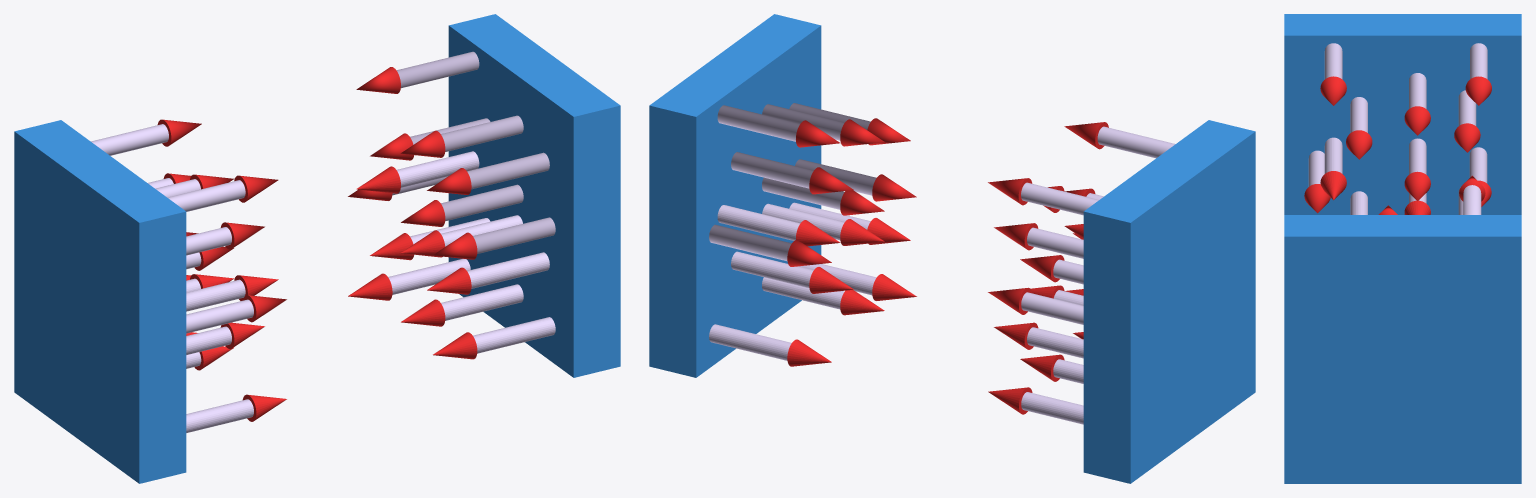
Rendered from obstacle7.fbx.
3 renders of one model, left to right at view 1: azimuth 30°, elevation 25°; view 2: azimuth 150°, elevation 25°; view 3: azimuth 270°, elevation 25°, orthographic. The views are drawn at different scales.
Visible parts, largest first — view 1: Cube.004, Cube.001, Cube.002, Cube.003; view 2: Cube.004, Cube.001, Cube.002, Cube.003; view 3: Cube.001, Cube.004, Cube.003, Cube.002.
Boxes of the visible parts, x1=… form: Cube.004: x1=14, y1=120, x2=186, y2=483; Cube.001: x1=448, y1=14, x2=620, y2=377; Cube.002: x1=348, y1=51, x2=555, y2=359; Cube.003: x1=91, y1=119, x2=286, y2=432; Cube.004: x1=1083, y1=120, x2=1255, y2=483; Cube.001: x1=649, y1=14, x2=821, y2=377; Cube.002: x1=709, y1=103, x2=916, y2=366; Cube.003: x1=988, y1=122, x2=1175, y2=424; Cube.001: x1=1284, y1=215, x2=1521, y2=483; Cube.004: x1=1284, y1=14, x2=1521, y2=214; Cube.003: x1=1304, y1=43, x2=1491, y2=214; Cube.002: x1=1378, y1=175, x2=1485, y2=214.
Size of the model in its own units: 266 by 138 by 120.
1 material, 1 textured.
